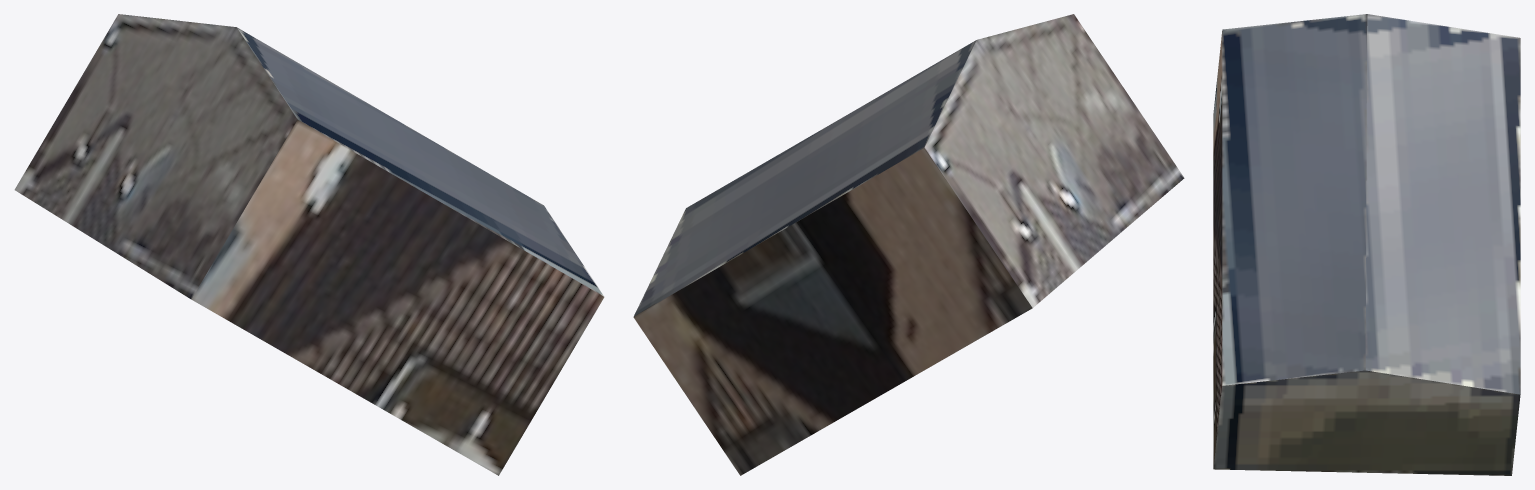
3 views of the same model, side by side, from view 1: azimuth 30°, elevation 25°; view 2: azimuth 150°, elevation 25°; view 3: azimuth 270°, elevation 25° (orthographic). The views are drawn at different scales.
Parts seen in each view (by area): view 1: BAG_0599100010060435; view 2: BAG_0599100010060435; view 3: BAG_0599100010060435.
Boxes of the visible parts, x1,y1,x2,y2 form: BAG_0599100010060435: (14, 14, 604, 475); BAG_0599100010060435: (633, 14, 1184, 475); BAG_0599100010060435: (1213, 14, 1520, 475).
Size of the model in its own units: 5.78 by 5.44 by 3.88.
2 materials, 2 textured.
